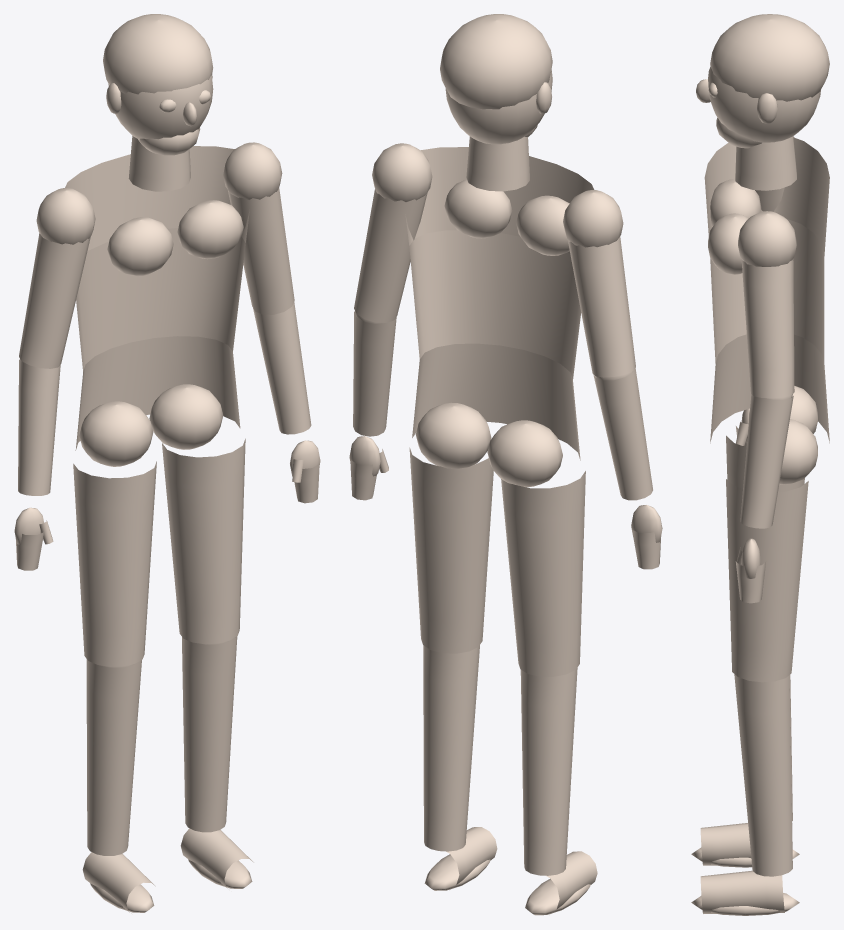
Rendered from human.gltf.
3 views of the same model, side by side, from view 1: azimuth 30°, elevation 25°; view 2: azimuth 150°, elevation 25°; view 3: azimuth 270°, elevation 25° (orthographic). The views are drawn at different scales.
Visible parts, largest first — view 1: HumanCharacter; view 2: HumanCharacter; view 3: HumanCharacter.
Part boxes in pixels (box(x1,y1,x2,y2)): HumanCharacter: box(14, 14, 320, 913); HumanCharacter: box(349, 14, 662, 915); HumanCharacter: box(691, 14, 829, 915).
Bounding box in the file's own units: 65.4 × 176 × 25.5.
